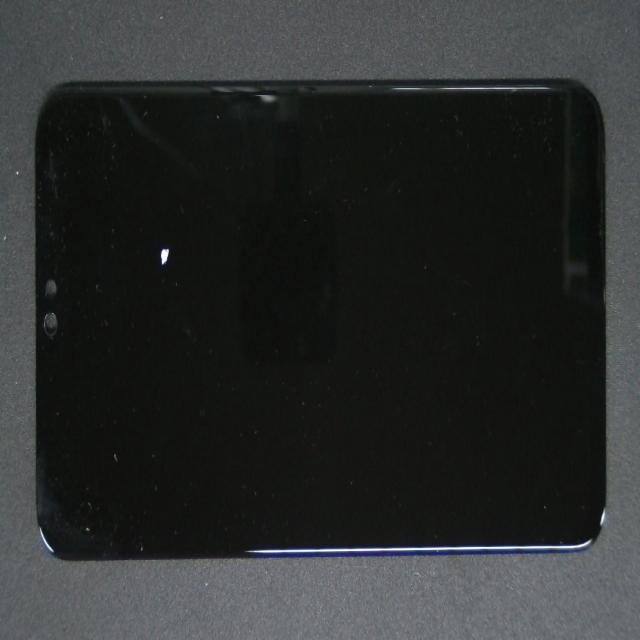stain: (74, 110, 222, 356)
